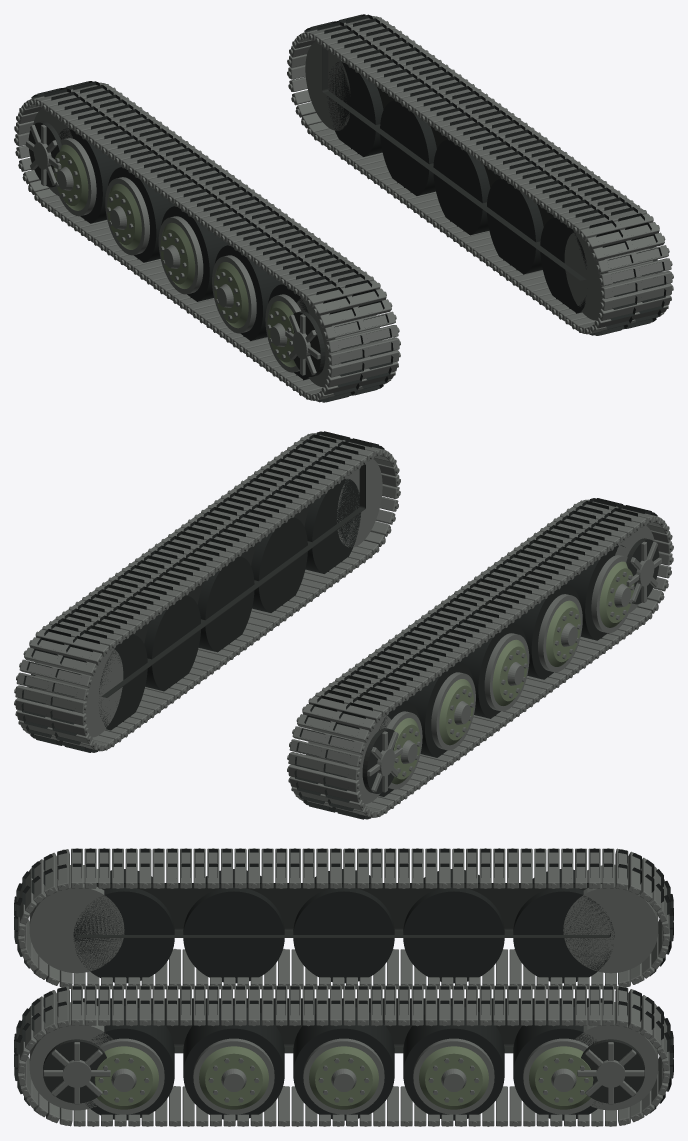
File: tracks_1_5.glb
The picture shows the model from 3 angles, top to bottom: view 1: azimuth 30°, elevation 25°; view 2: azimuth 150°, elevation 25°; view 3: azimuth 270°, elevation 25°; orthographic projection. The views are drawn at different scales.
Visible parts, largest first — view 1: tracks.007; view 2: tracks.007; view 3: tracks.007.
Boxes of the visible parts, x1,y1,x2,y2 form: tracks.007: (14, 14, 673, 402); tracks.007: (14, 431, 673, 819); tracks.007: (14, 848, 673, 1126).
Size of the model in its own units: 3.91 by 1.18 by 6.18.
